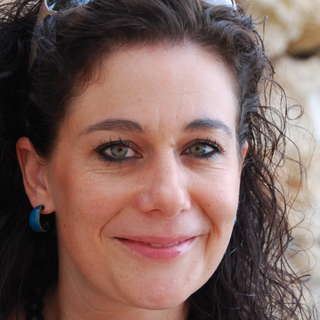eye: (88, 132, 149, 167), (175, 134, 228, 166)
